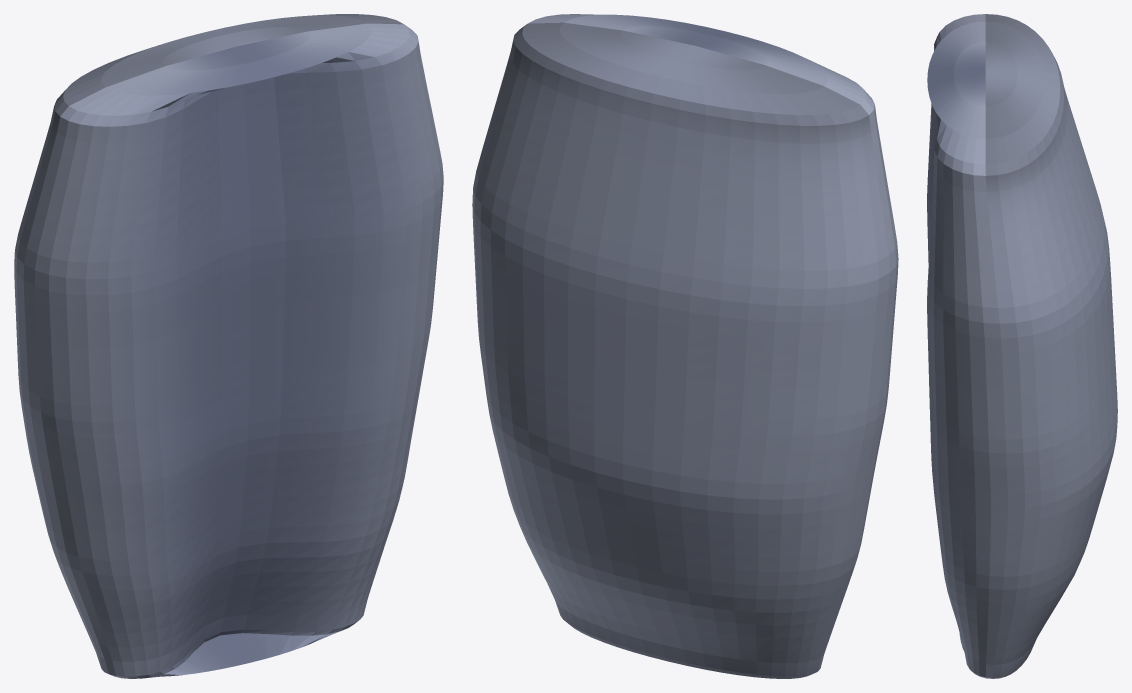
The model's file is subject_hair.obj.
The picture shows the model from 3 angles, left to right: view 1: azimuth 30°, elevation 25°; view 2: azimuth 150°, elevation 25°; view 3: azimuth 270°, elevation 25°; orthographic projection. The views are drawn at different scales.
Parts seen in each view (by area): view 1: subject_hair; view 2: subject_hair; view 3: subject_hair.
Boxes of the visible parts, x1,y1,x2,y2 form: subject_hair: (14,14,443,678); subject_hair: (472,14,898,678); subject_hair: (927,14,1117,678).
Size of the model in its own units: 0.1856 by 0.2634 by 0.0813.
1 material, 1 textured.
